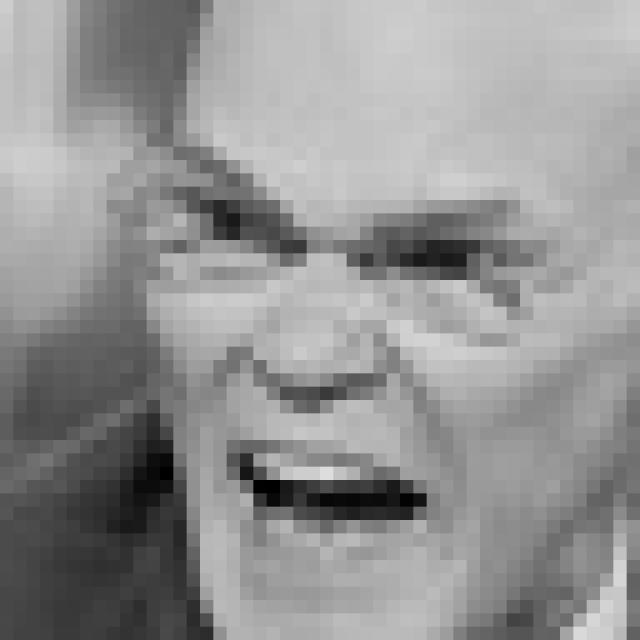angry: (157, 134, 585, 605)
